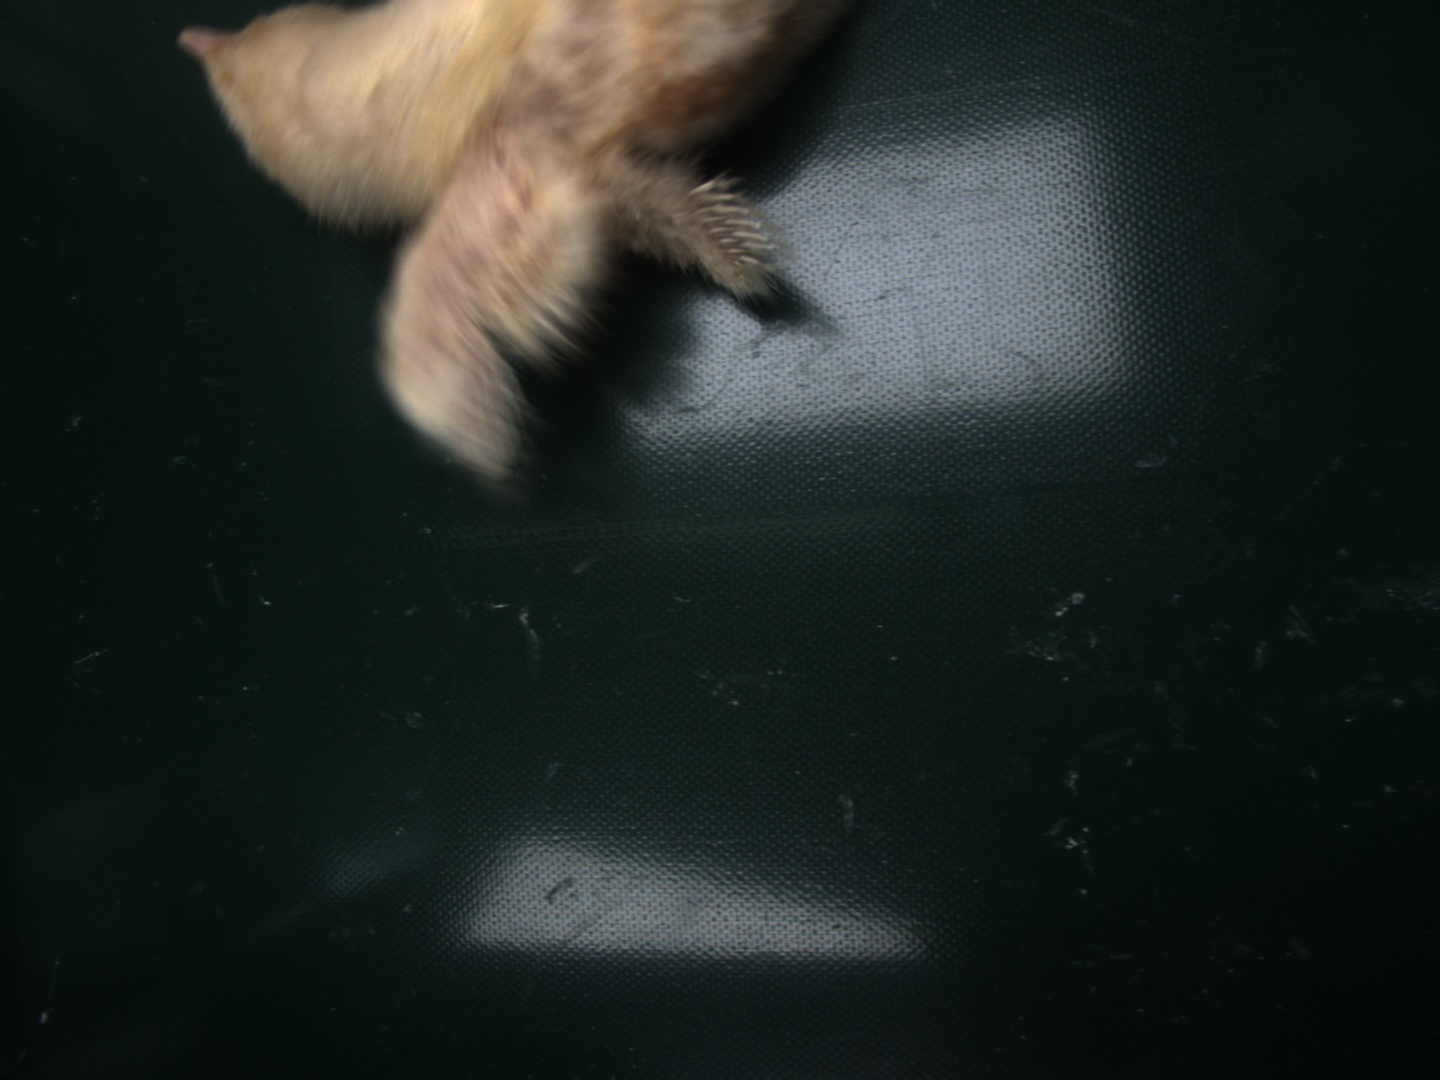female: (685, 179, 777, 272)
